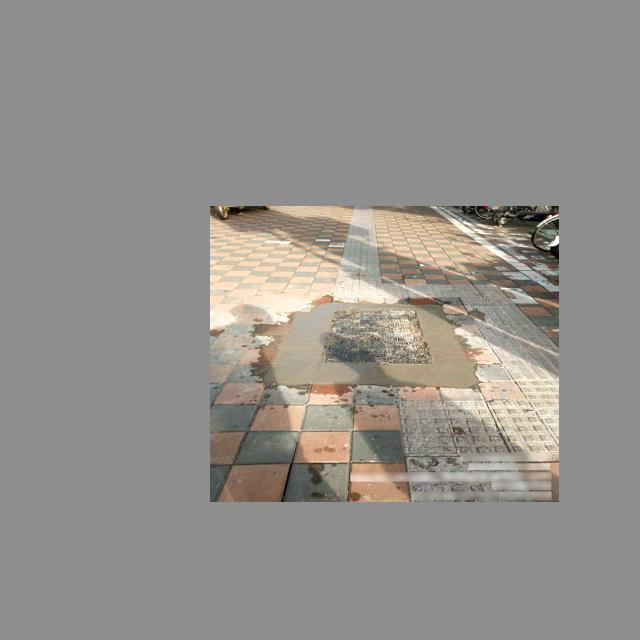good: (316, 308, 435, 364)
